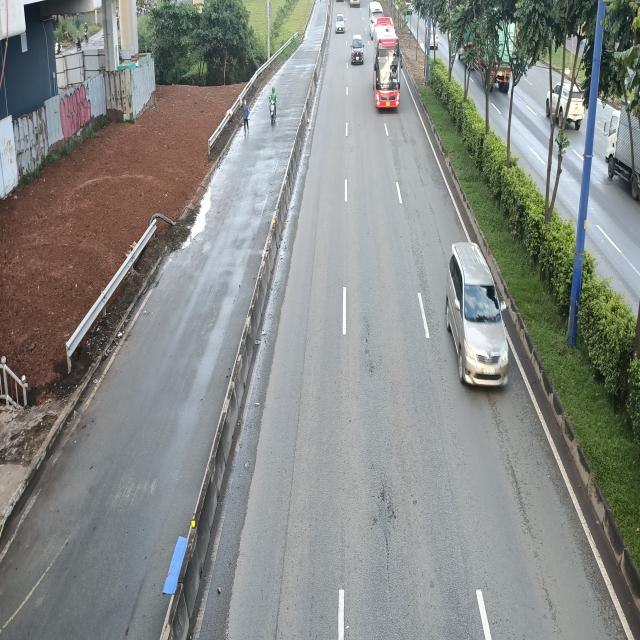car: (446, 241, 510, 387), (351, 34, 365, 65)
coach: (373, 19, 403, 112)
